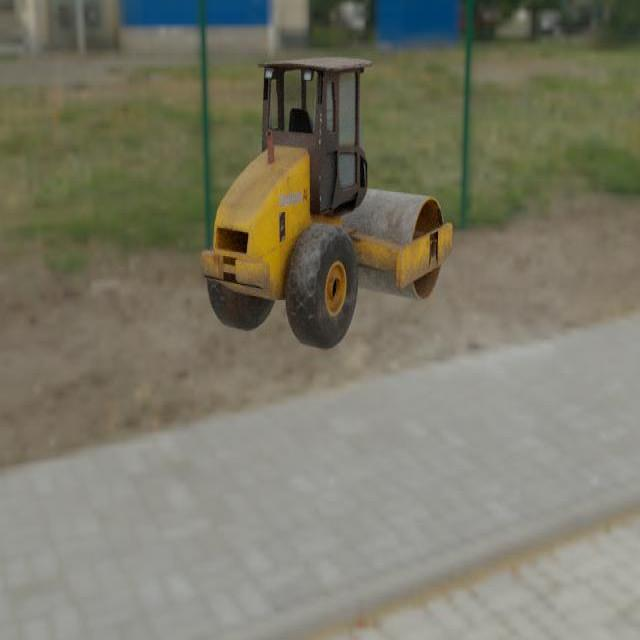Roller: (200, 56, 452, 349)
